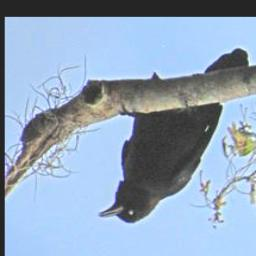Crow: (99, 48, 250, 223)
